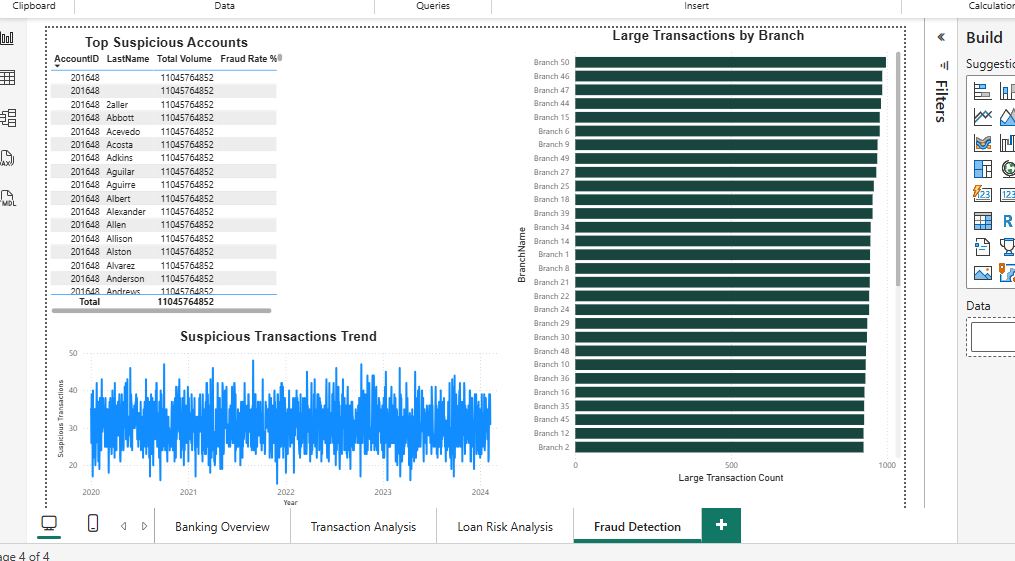

Layout of this report page (visuals, bound fields, positions):
{"tool":"powerbi","page":{"name":"Fraud Detection","canvas":[1280,720],"ordinal":3},"visuals":[{"type":"barChart","title":"Large Transactions by Branch","fields":{"Category":["branches.BranchName"],"Y":["Measures (3).Large Transaction Count"]},"box":[696.1,0,584.1,684.1],"z":0},{"type":"lineChart","title":"Suspicious Transactions Trend","fields":{"Category":["final_transactions_with_risk.TransactionDate.Variation.Date Hierarchy.Year","final_transactions_with_risk.TransactionDate.Variation.Date Hierarchy.Quarter","final_transactions_with_risk.TransactionDate.Variation.Date Hierarchy.Month","final_transactions_with_risk.TransactionDate.Variation.Date Hierarchy.Day"],"Y":["Measures (3).Suspicious Transactions"]},"box":[10.5,449.6,669.2,270.4],"z":1},{"type":"tableEx","title":"Top Suspicious Accounts","fields":{"Values":["accounts.AccountID","cleaned_customers.LastName","Measures (3).Total Volume","Measures (3).Fraud Rate %"]},"box":[0,10.5,357,421.2],"z":2}]}

Visuals, with their boxes on the page's 1280x720 design canvas (x1, y1, x2, y2). These are canvas units, not pixel positions in the 1015x561 screenshot, which may show the page scaled, cropped or inside an application window:
"Large Transactions by Branch" barChart: locate(696, 0, 1280, 684)
"Suspicious Transactions Trend" lineChart: locate(10, 450, 680, 720)
"Top Suspicious Accounts" tableEx: locate(0, 10, 357, 432)
